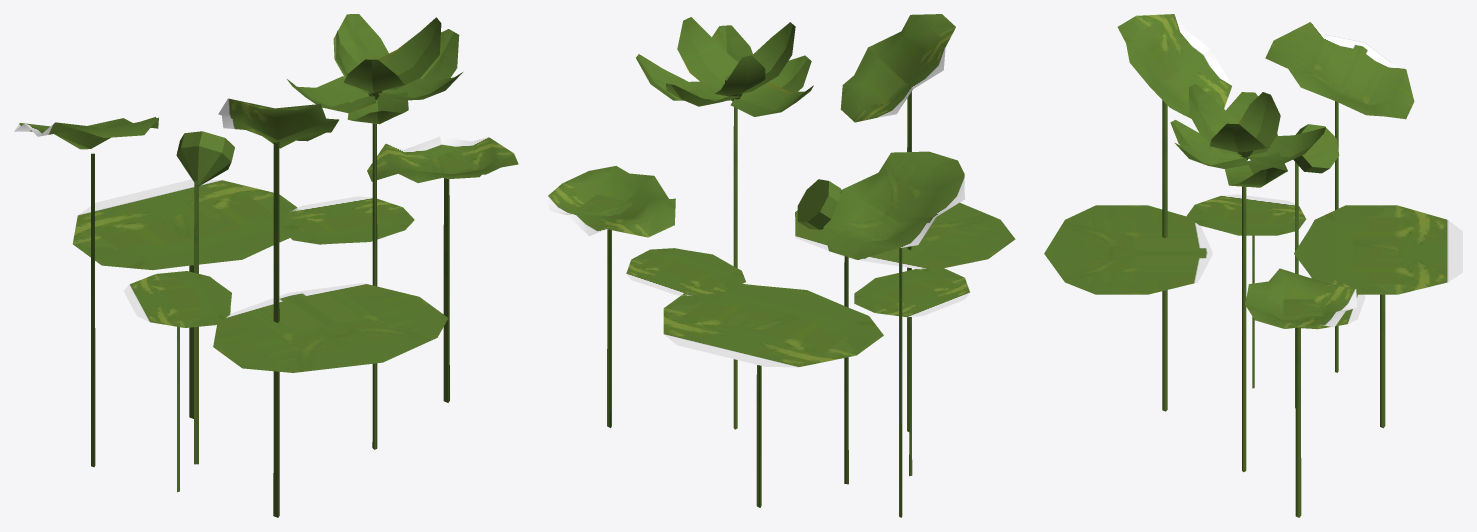
The model's file is City_bujian_52.fbx.
3 renders of one model, left to right at view 1: azimuth 30°, elevation 25°; view 2: azimuth 150°, elevation 25°; view 3: azimuth 270°, elevation 25°, orthographic. The views are drawn at different scales.
Parts seen in each view (by area): view 1: group11_polySurface2484; view 2: group11_polySurface2484; view 3: group11_polySurface2484.
Part boxes in pixels (x1,y1,x2,y2): group11_polySurface2484: [14, 14, 518, 517]; group11_polySurface2484: [547, 14, 1015, 517]; group11_polySurface2484: [1044, 14, 1462, 517].
Bounding box in the file's own units: 17.13 × 15.47 × 15.43.
